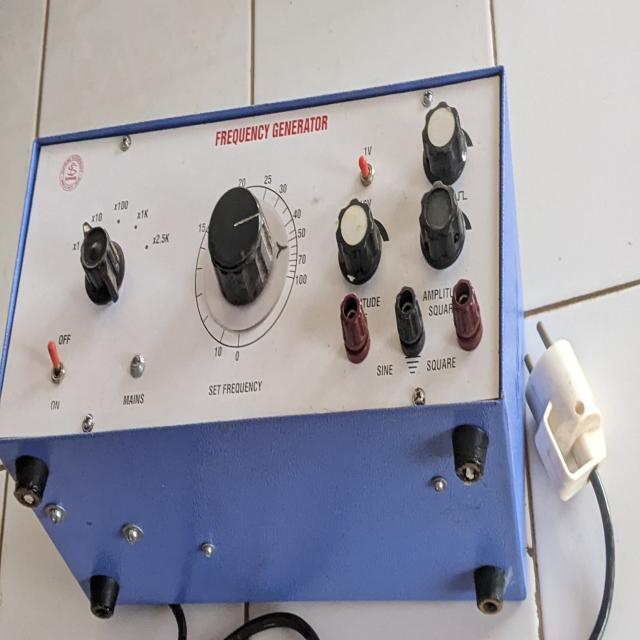Analog Frequency Generator: (7, 53, 533, 629)
